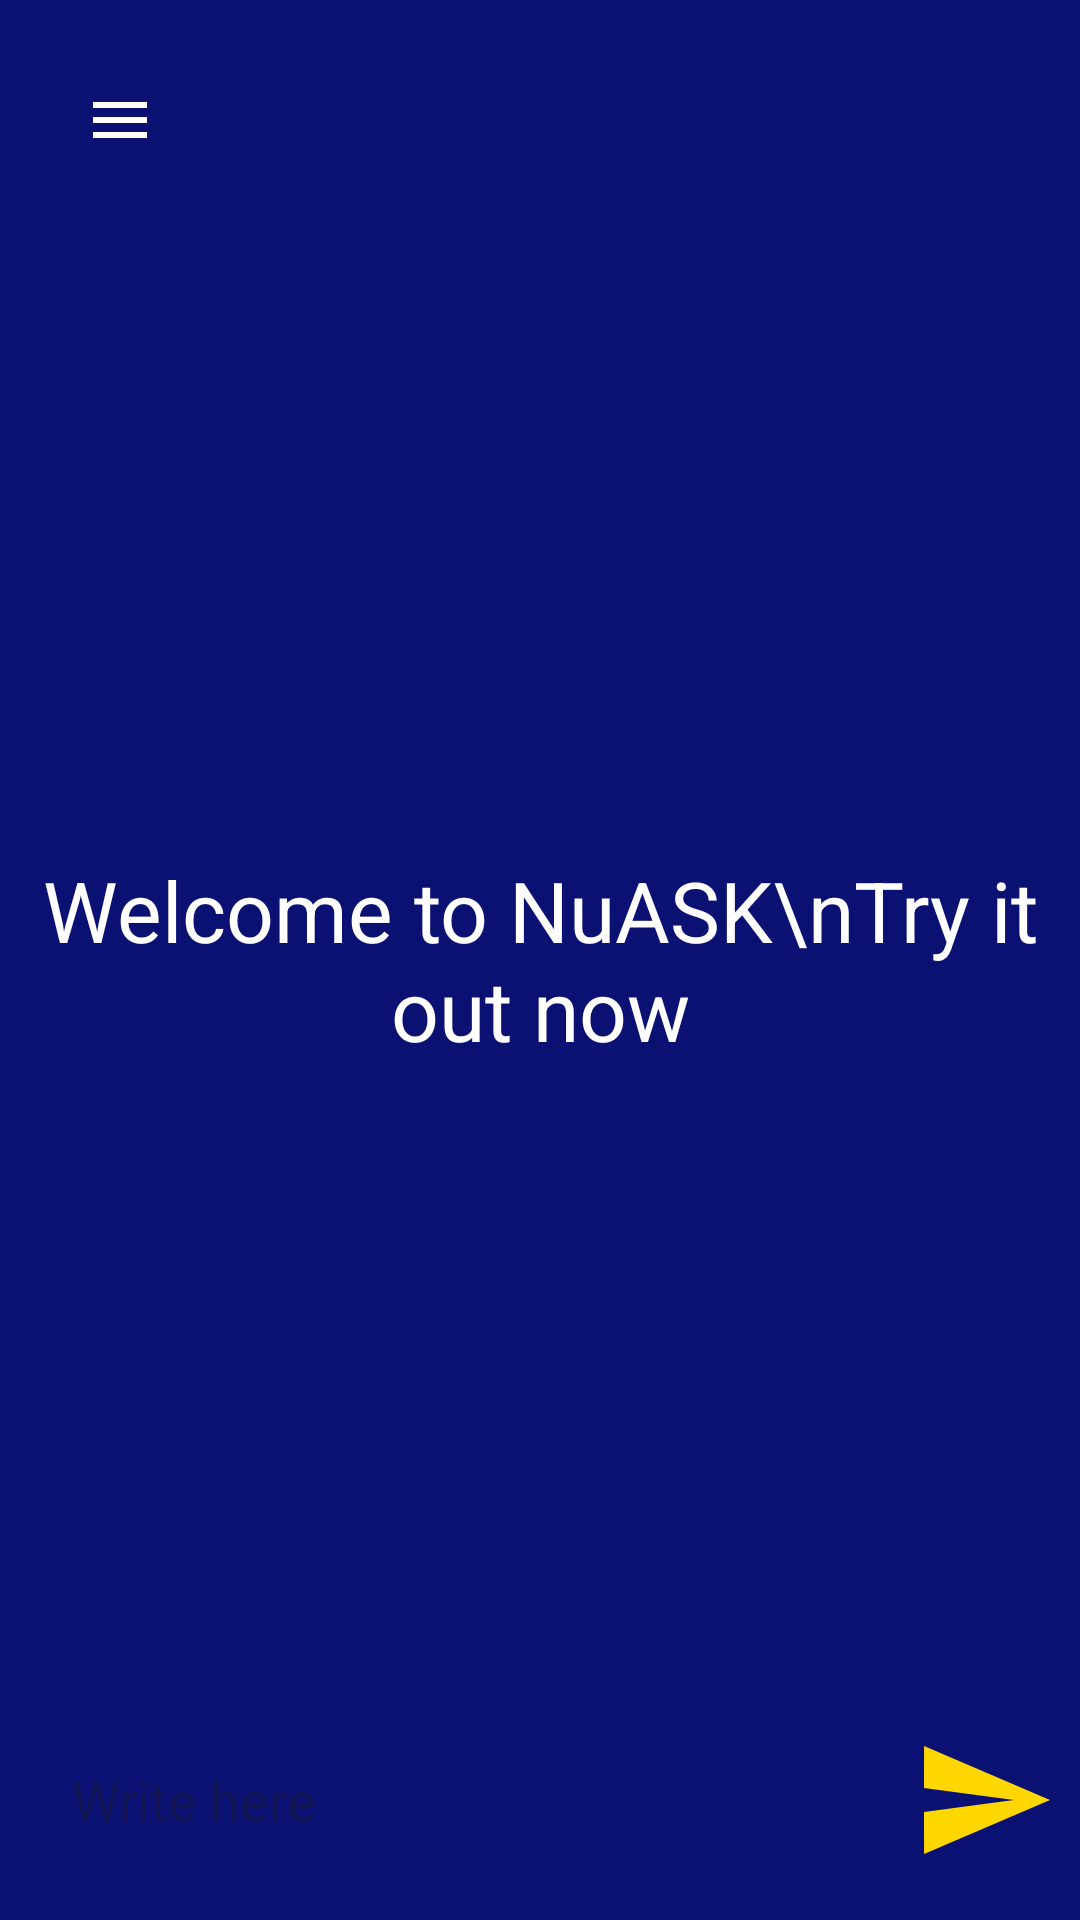

Icons on this 1080x1920 Android screen, each with the point to tap as (x,y):
Open menu: (120,120)
send: (987,1800)
